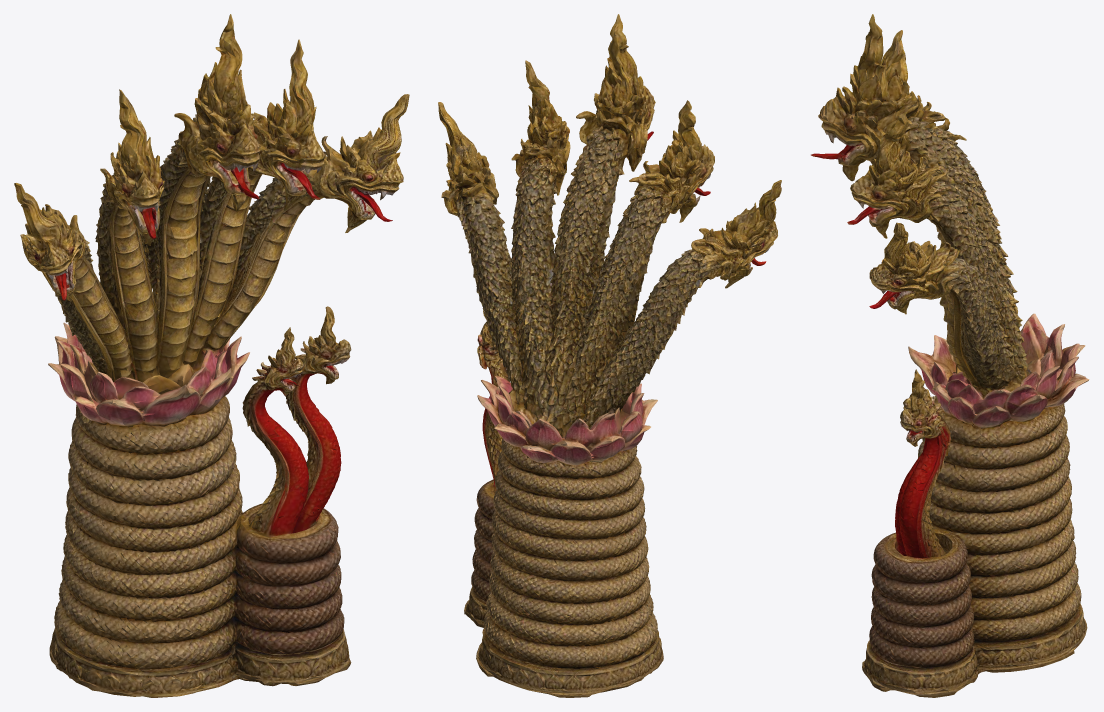
The model's file is w3hnagagroup.glb.
The picture shows the model from 3 angles, left to right: view 1: azimuth 30°, elevation 25°; view 2: azimuth 150°, elevation 25°; view 3: azimuth 270°, elevation 25°; orthographic projection. The views are drawn at different scales.
Visible parts, largest first — view 1: output_unwrapped; view 2: output_unwrapped; view 3: output_unwrapped.
Boxes of the visible parts, <box> form: output_unwrapped: <box>14,14,409,697</box>; output_unwrapped: <box>438,14,781,697</box>; output_unwrapped: <box>811,14,1089,697</box>.
Size of the model in its own units: 1.26 by 2.1 by 0.8527.
1 material, 1 textured.
